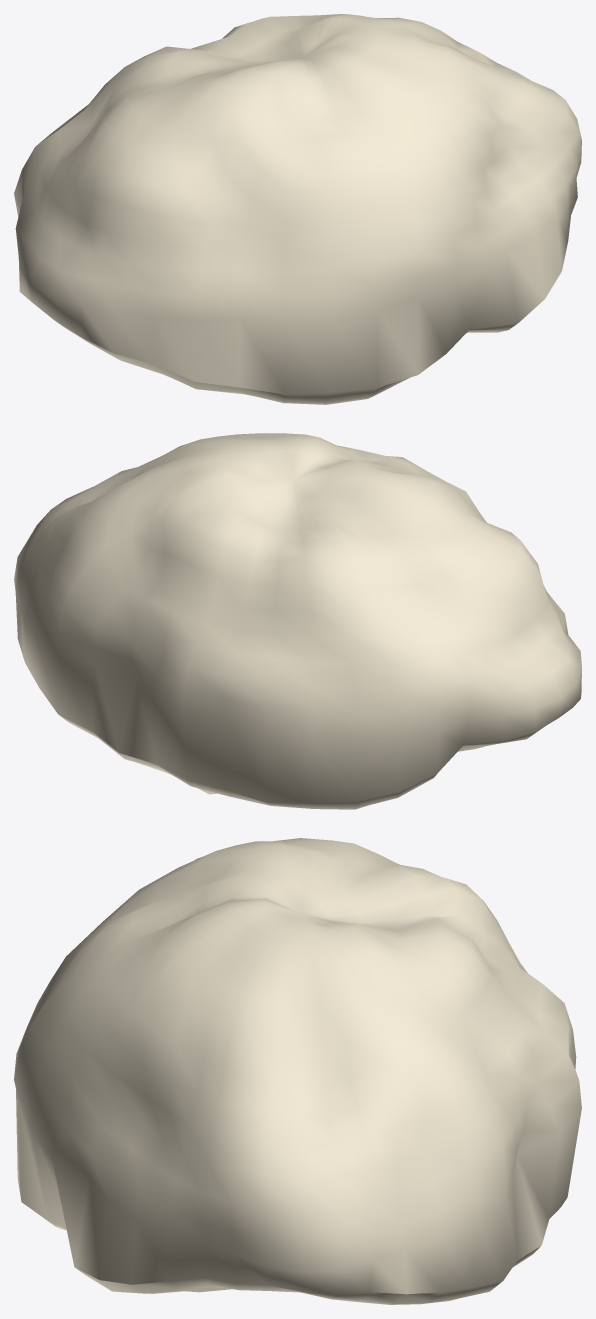
The model's file is cowrie_c4.glb.
3 renders of one model, top to bottom at view 1: azimuth 30°, elevation 25°; view 2: azimuth 150°, elevation 25°; view 3: azimuth 270°, elevation 25°, orthographic. The views are drawn at different scales.
Visible parts, largest first — view 1: cowrie_c4; view 2: cowrie_c4; view 3: cowrie_c4.
Part boxes in pixels (<box>): cowrie_c4: <box>14,14,581,404</box>; cowrie_c4: <box>14,433,581,809</box>; cowrie_c4: <box>14,838,581,1304</box>.
Bounding box in the file's own units: 0.0232 × 0.0115 × 0.017.
